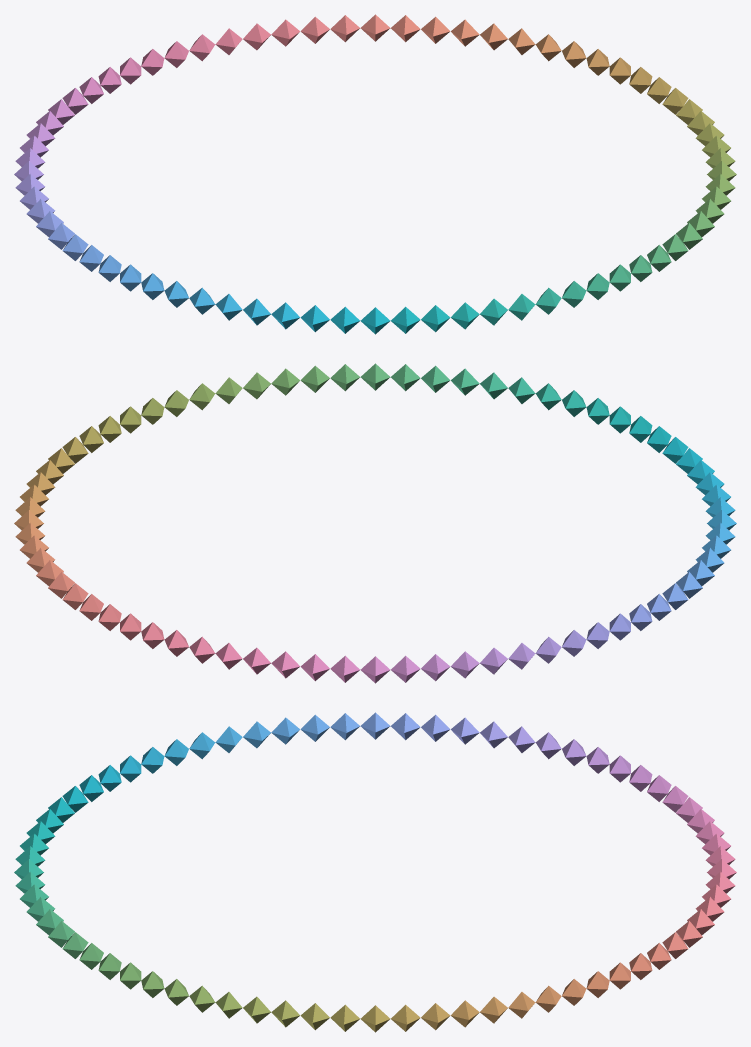
Rendered from colors1.obj.
3 views of the same model, one above another, from view 1: azimuth 30°, elevation 25°; view 2: azimuth 150°, elevation 25°; view 3: azimuth 270°, elevation 25° (orthographic).
Bounding box in the file's own units: 10.44 × 0.4363 × 10.44.
